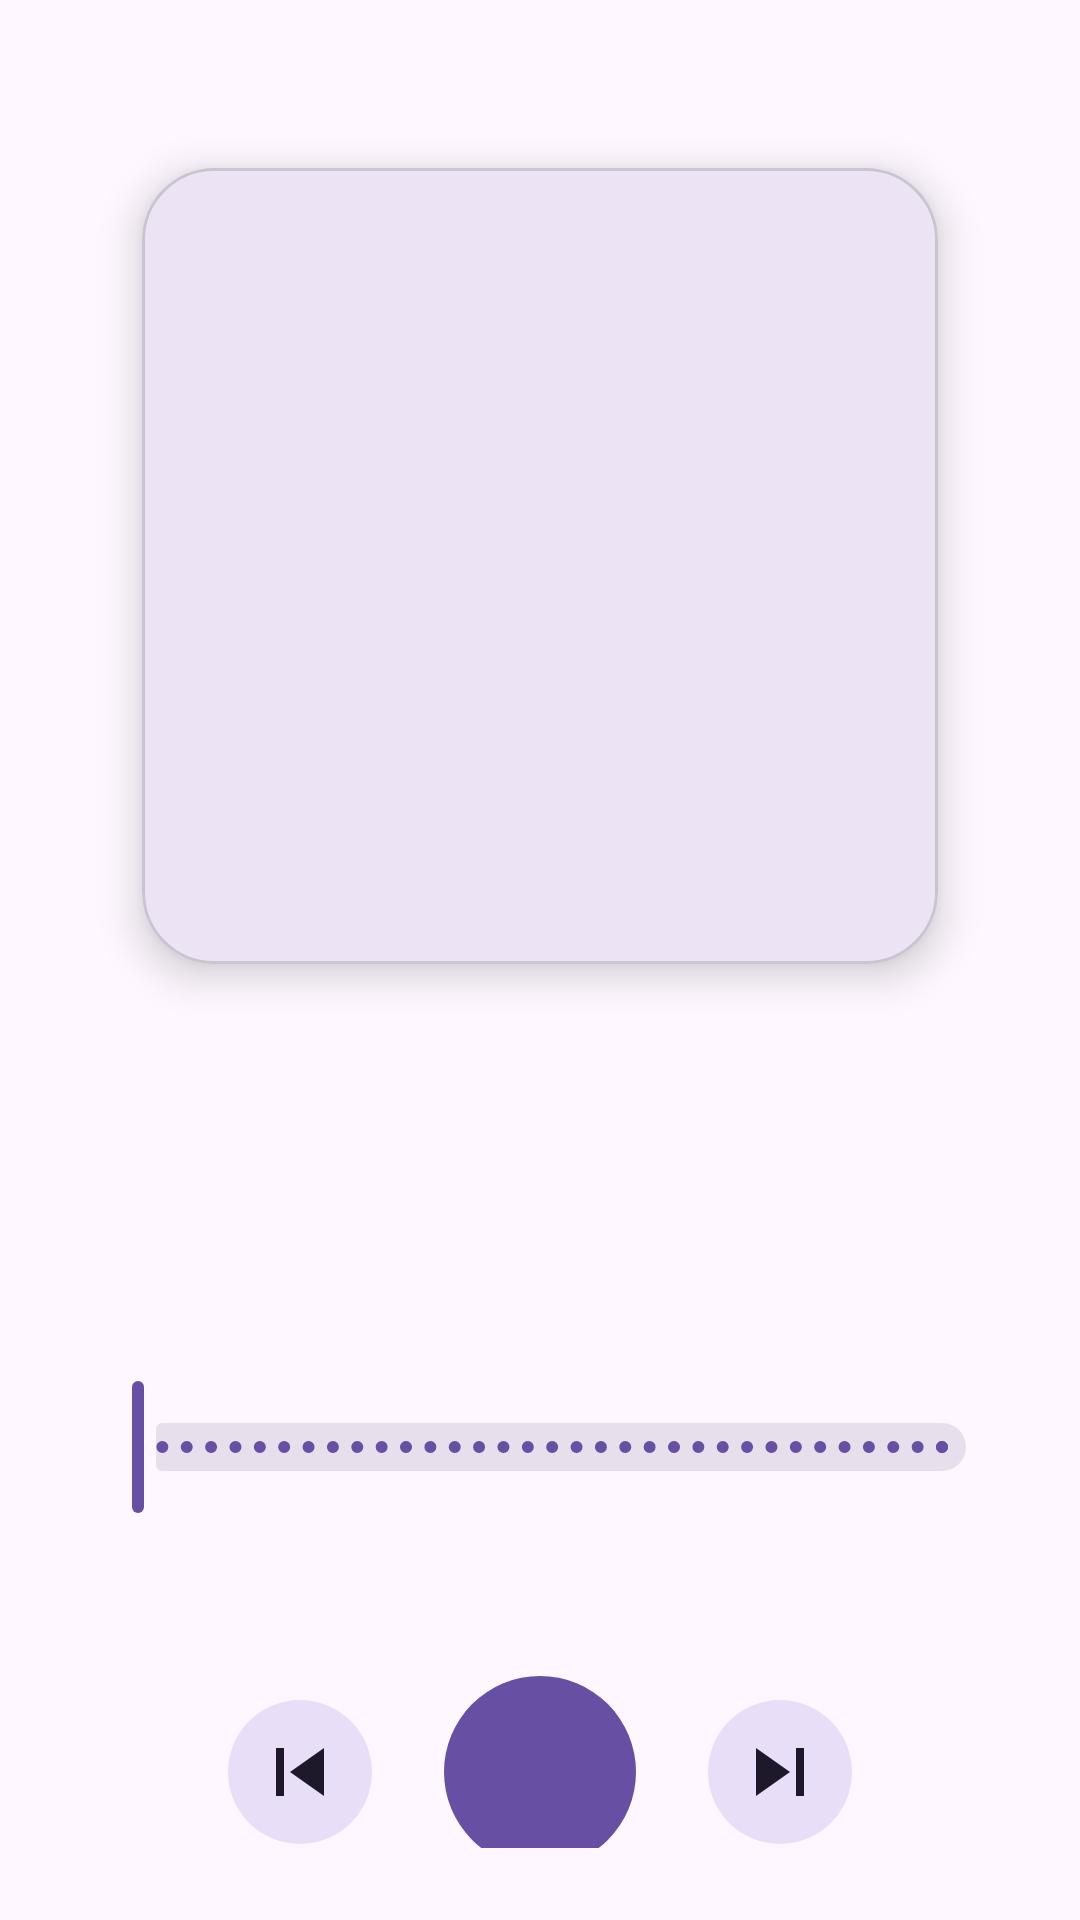

Named icons in this screenshot (1080 × 1920) and their centers, (x=x, y=y):
Next track: (x=780, y=1771)
Previous track: (x=300, y=1771)
